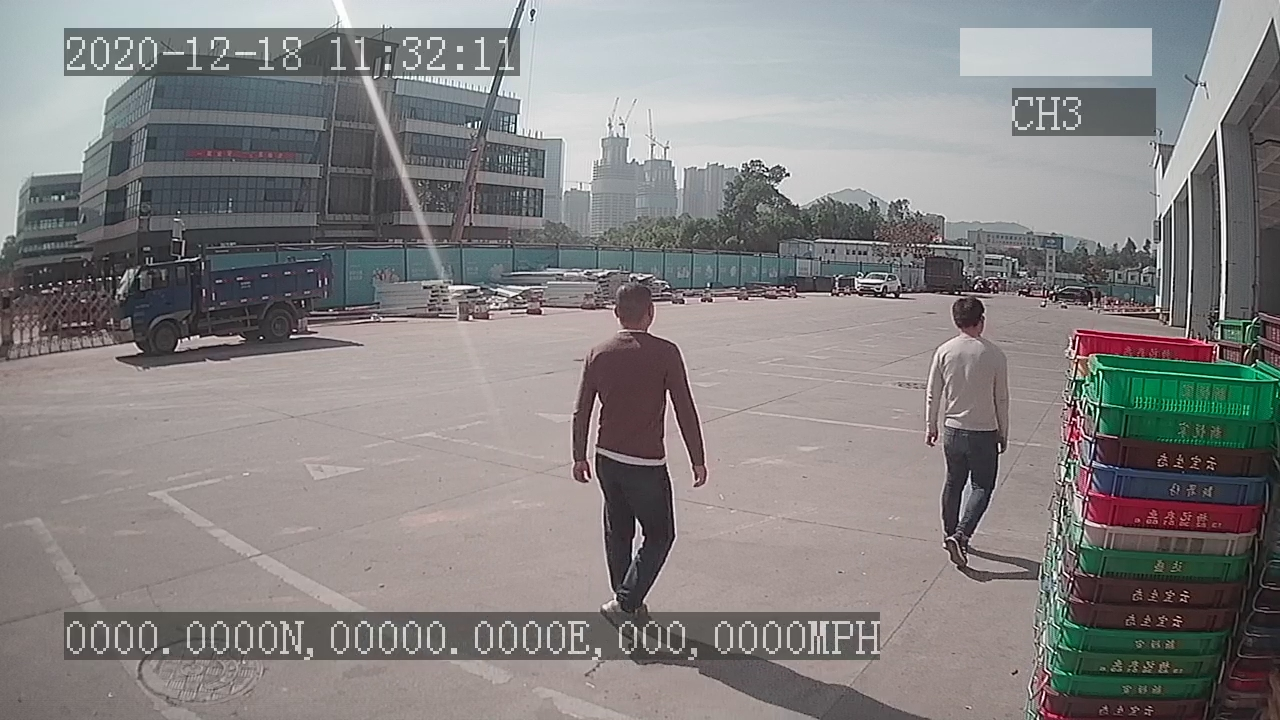person: (924, 295, 1013, 569)
